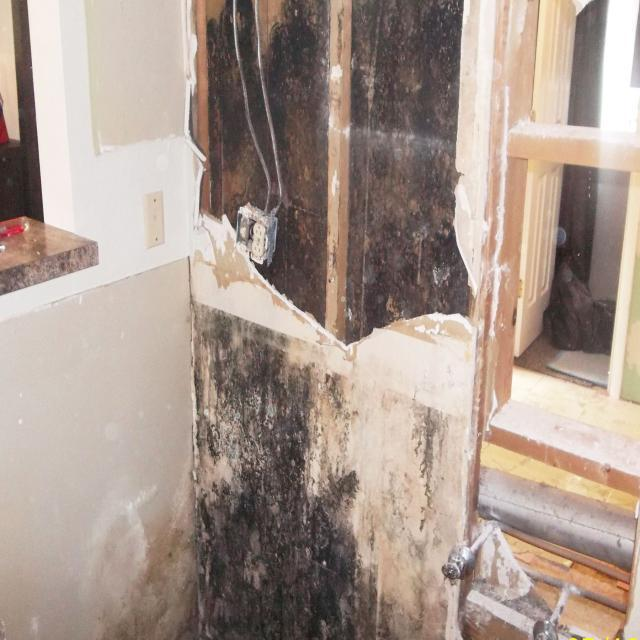leak: (197, 321, 370, 640)
